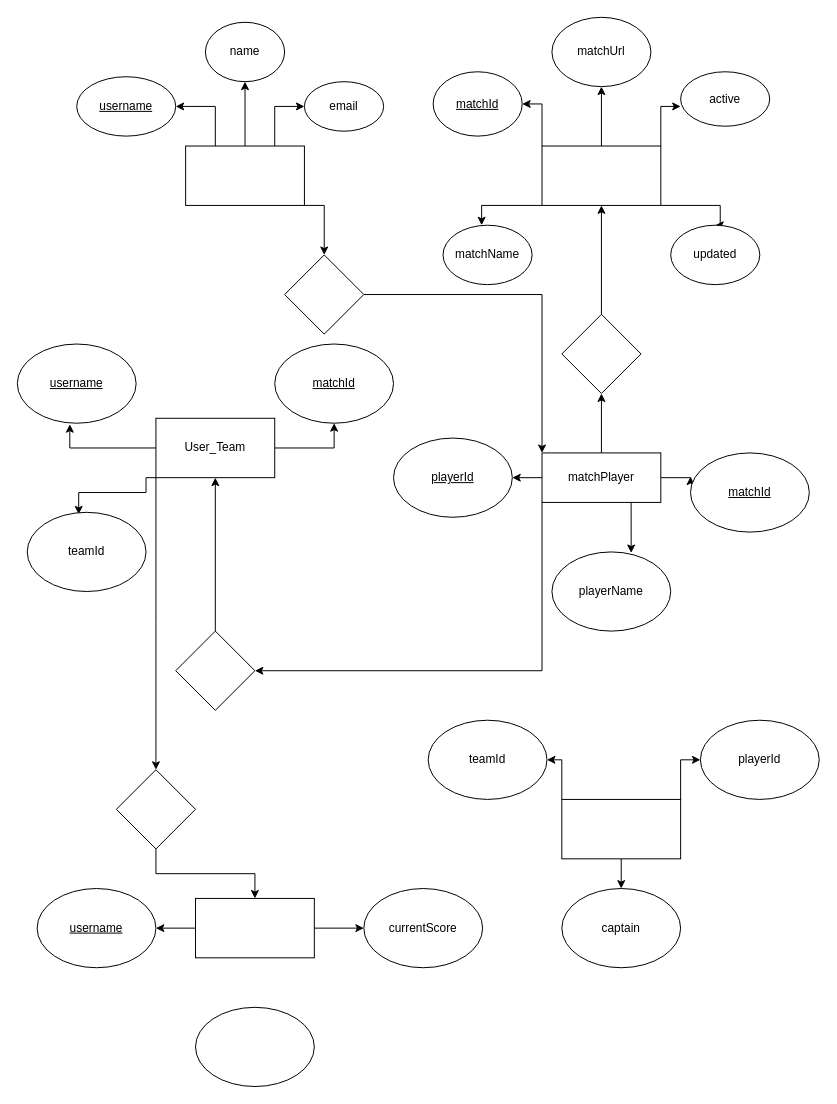
Some shapes in this 837 by 1104 pixel diagram are drawn without their labels. The shapes that lost their labels are listed below. From the top down, each one's centre as x and y in pixels, then its label:
At pixel 244 175: "User".
At pixel 601 175: "Match".
At pixel 324 294: "Picks".
At pixel 601 353: "Plays".
At pixel 215 670: "Part of".
At pixel 155 809: "Decides".
At pixel 621 828: "team".
At pixel 254 927: "Score".
At pixel 254 1046: "totalScore".
